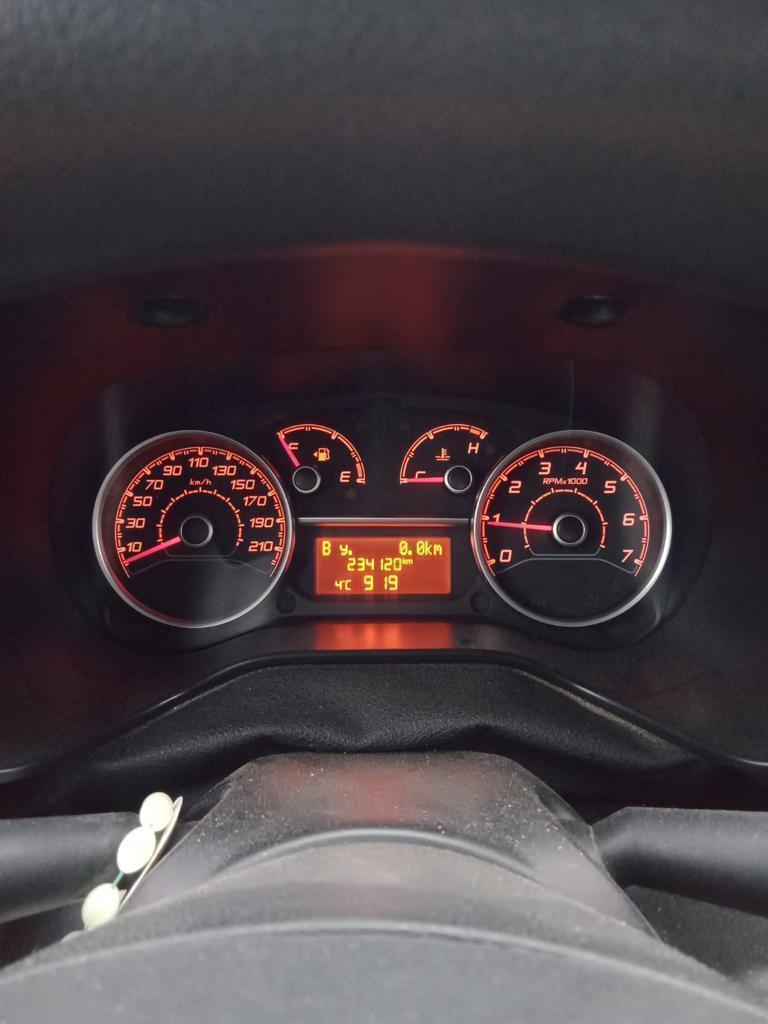,: (348, 549, 352, 556), (408, 549, 412, 555)
0: (415, 540, 425, 556), (398, 540, 407, 555), (392, 557, 401, 571)
1: (382, 574, 387, 590), (378, 557, 383, 570)
2: (346, 557, 356, 571), (383, 557, 392, 571)
3: (356, 556, 365, 571)
4: (365, 557, 375, 571), (333, 579, 342, 590)
9: (362, 574, 374, 591), (387, 574, 398, 591)
X: (321, 540, 331, 556), (338, 542, 348, 556), (425, 538, 432, 556), (433, 543, 442, 556), (344, 579, 351, 591), (406, 558, 413, 565), (402, 556, 406, 564)
odometer: (310, 530, 455, 601)
